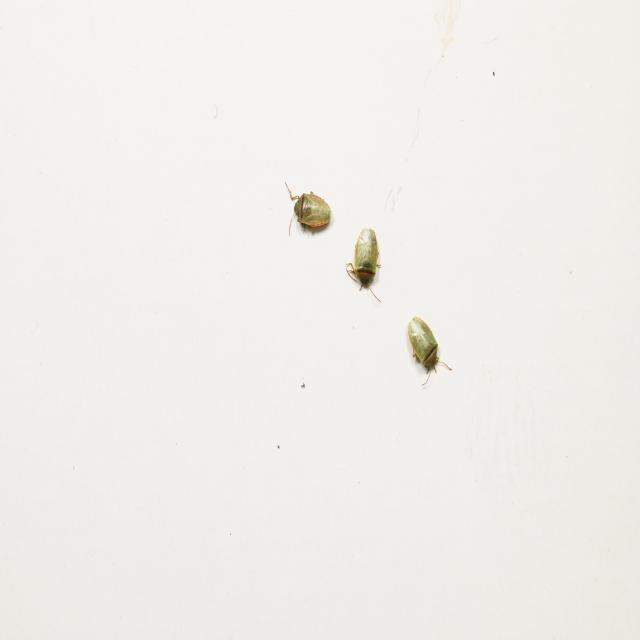stinkbug: (407, 316, 453, 386), (345, 227, 382, 304), (285, 180, 331, 238)
